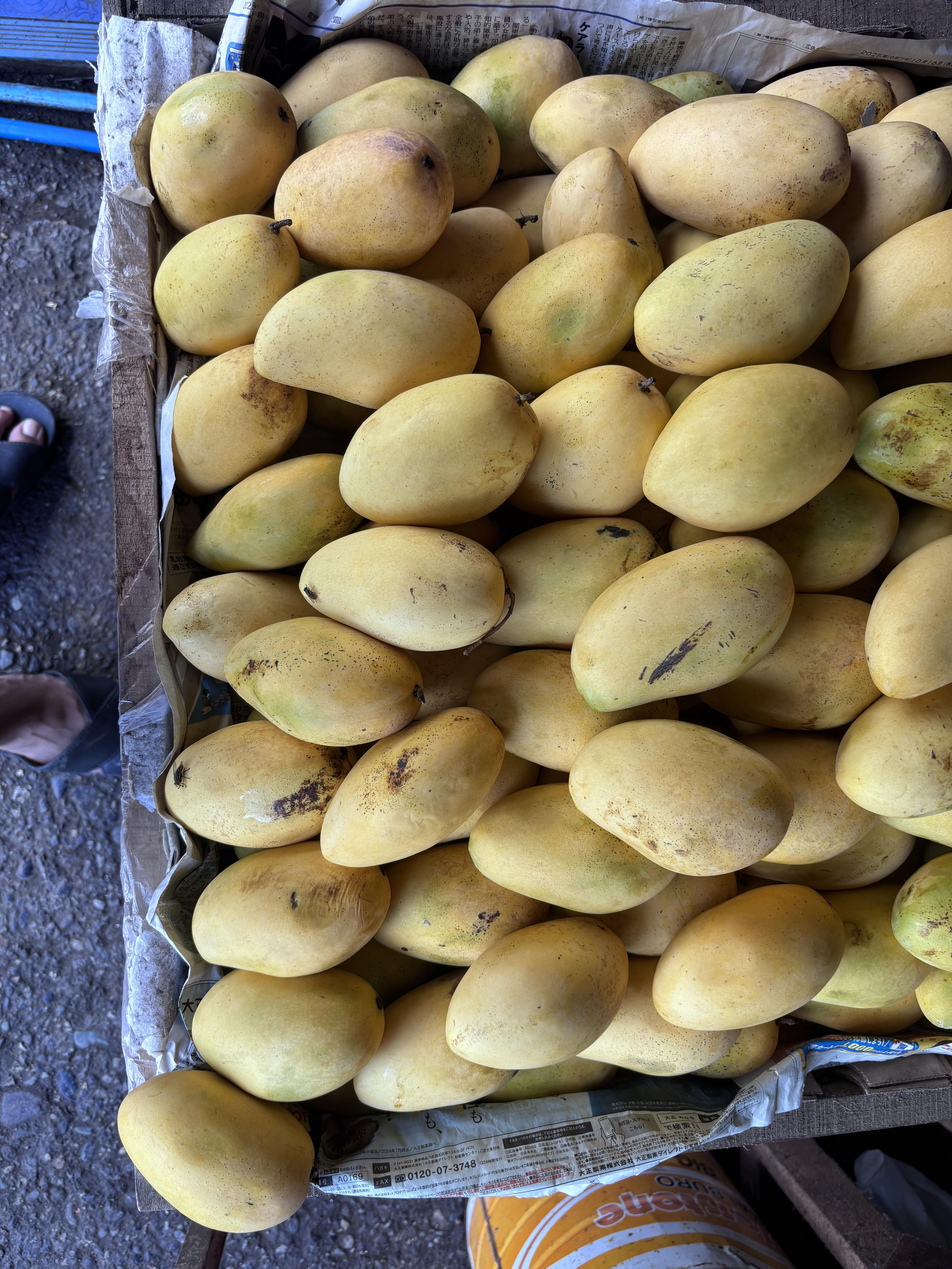mango: (571, 536, 794, 712), (644, 363, 857, 533), (568, 719, 794, 876), (634, 220, 849, 377), (117, 1070, 314, 1232), (628, 94, 850, 236), (339, 374, 539, 526), (321, 706, 504, 867), (653, 884, 844, 1030), (446, 917, 628, 1069), (299, 525, 506, 651), (224, 616, 422, 747), (274, 127, 453, 270), (193, 968, 384, 1102), (150, 72, 296, 233)
occluded: (254, 269, 480, 409), (476, 234, 647, 395), (298, 76, 500, 210), (192, 841, 390, 977), (469, 784, 674, 914), (468, 649, 678, 772), (512, 364, 671, 519), (701, 594, 880, 730), (485, 515, 661, 649), (165, 721, 350, 848), (354, 971, 514, 1112), (377, 843, 549, 966), (186, 454, 361, 572), (154, 214, 300, 355), (171, 345, 308, 495), (820, 121, 952, 268), (830, 211, 952, 370), (579, 956, 740, 1076), (452, 35, 582, 180), (748, 469, 899, 592), (744, 730, 876, 864), (541, 146, 662, 291), (163, 572, 316, 679), (836, 685, 952, 818), (529, 74, 683, 173), (397, 207, 530, 319), (812, 883, 929, 1008), (865, 537, 952, 698), (281, 38, 428, 127), (743, 819, 916, 891), (854, 382, 952, 509), (603, 873, 737, 957), (757, 66, 897, 133), (441, 752, 540, 842), (415, 643, 513, 721), (473, 172, 555, 260), (892, 853, 952, 971), (486, 1056, 618, 1102), (792, 992, 922, 1036), (878, 502, 952, 576), (878, 86, 952, 154), (696, 1021, 778, 1077), (819, 363, 878, 414), (657, 221, 718, 269), (652, 71, 734, 103), (885, 810, 952, 848), (915, 969, 952, 1030), (863, 66, 917, 105), (669, 519, 725, 550), (666, 375, 705, 413)
